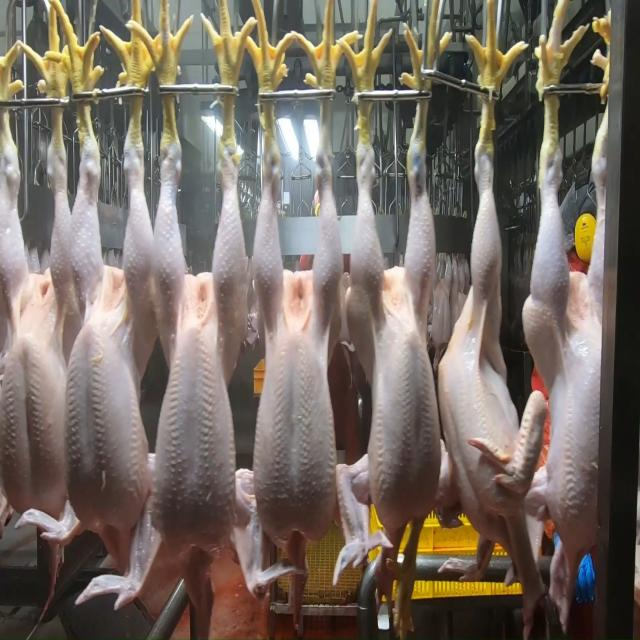chicken: (151, 135, 249, 556), (64, 117, 154, 564), (248, 134, 344, 550), (355, 142, 442, 534), (0, 115, 72, 550), (532, 142, 608, 542)
chicken2: (436, 151, 530, 555)
